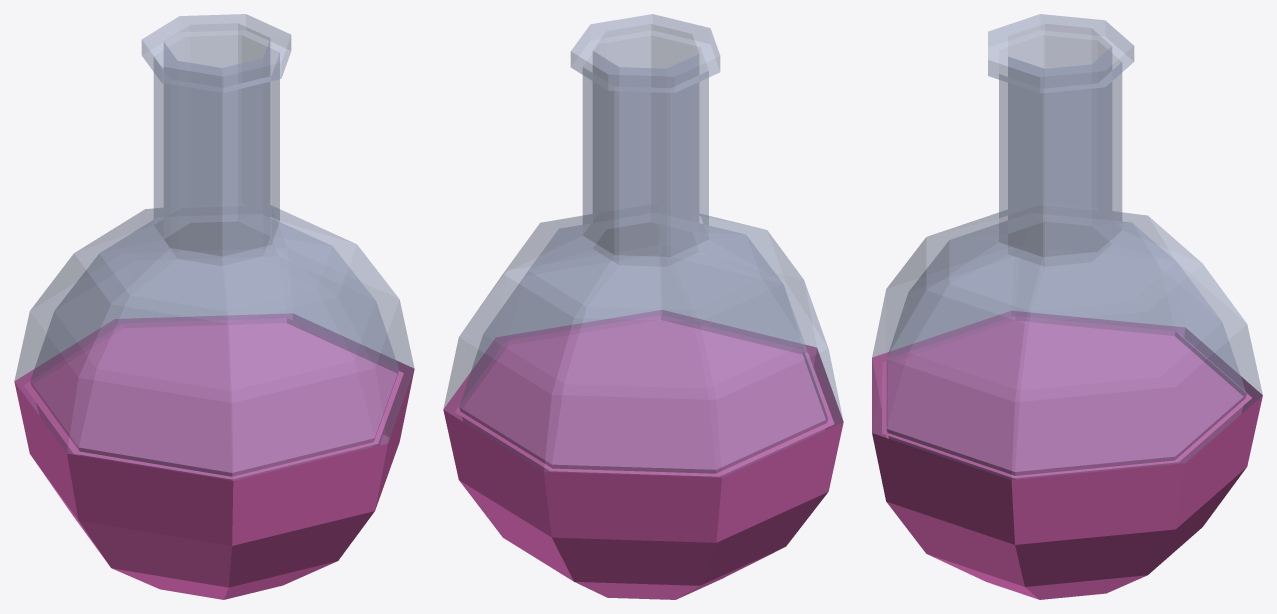
File: probetapeque.fbx
The picture shows the model from 3 angles, left to right: view 1: azimuth 30°, elevation 25°; view 2: azimuth 150°, elevation 25°; view 3: azimuth 270°, elevation 25°; orthographic projection.
Parts seen in each view (by area): view 1: ProbetaPeque, liquido; view 2: ProbetaPeque, liquido; view 3: ProbetaPeque, liquido.
Boxes of the visible parts, left/top/right/bottom form: ProbetaPeque: left=14, top=14, right=414, bottom=599; liquido: left=24, top=323, right=403, bottom=479; ProbetaPeque: left=443, top=14, right=843, bottom=599; liquido: left=455, top=320, right=834, bottom=476; ProbetaPeque: left=872, top=14, right=1262, bottom=599; liquido: left=882, top=320, right=1251, bottom=478.
Bounding box in the file's own units: 237 × 340 × 231.
